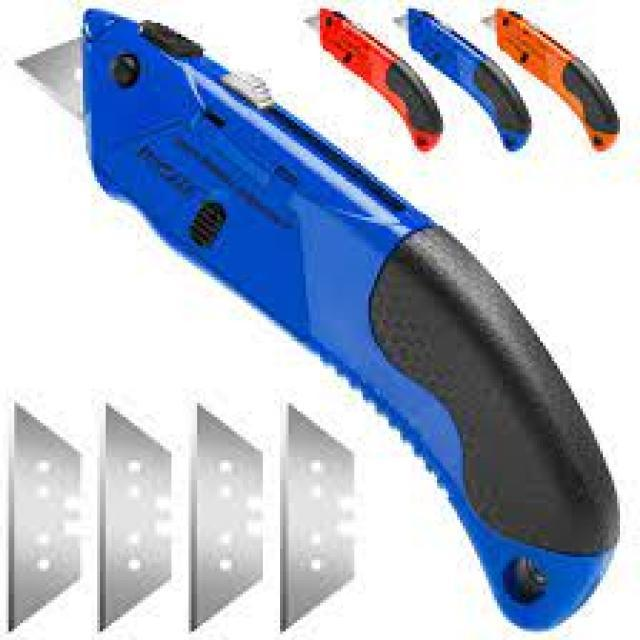cutter: (8, 9, 629, 634), (291, 5, 447, 164), (477, 0, 629, 163), (386, 7, 536, 158)
